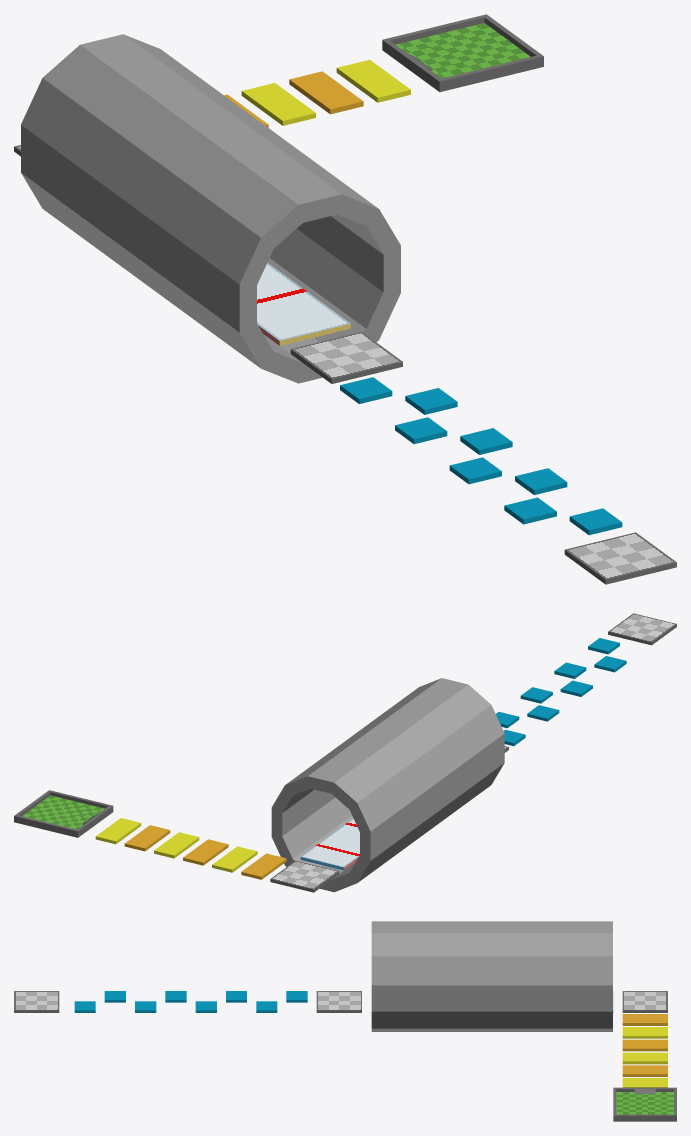
File: level-2.glb
3 views of the same model, one above another, from view 1: azimuth 30°, elevation 25°; view 2: azimuth 150°, elevation 25°; view 3: azimuth 270°, elevation 25° (orthographic). The views are drawn at different scales.
Visible parts, largest first — view 1: Object_81, Object_6, Object_55, Object_362, Object_360, Object_43, Object_45, Object_47, Object_8, Object_71, Object_57, Object_69 (+6 smaller); view 2: Object_81, Object_6, Object_55, Object_358, Object_362, Object_43, Object_45, Object_47, Object_49, Object_53, Object_51; view 3: Object_81, Object_6, Object_358, Object_360, Object_362, Object_47, Object_49, Object_45, Object_51, Object_53, Object_43.
Boxes of the visible parts, x1,y1,x2,y2 form: Object_81: [21, 34, 400, 383]; Object_6: [382, 23, 543, 91]; Object_55: [257, 263, 350, 345]; Object_362: [564, 532, 676, 584]; Object_360: [290, 332, 402, 383]; Object_43: [336, 59, 410, 102]; Object_45: [289, 71, 363, 114]; Object_47: [241, 83, 315, 125]; Object_8: [437, 54, 543, 86]; Object_71: [569, 508, 622, 535]; Object_57: [340, 377, 392, 403]; Object_69: [504, 497, 556, 524]; Object_81: [271, 678, 504, 892]; Object_6: [14, 795, 113, 837]; Object_55: [300, 818, 359, 870]; Object_358: [270, 860, 339, 892]; Object_362: [608, 613, 676, 645]; Object_43: [95, 818, 141, 844]; Object_45: [124, 825, 170, 851]; Object_47: [154, 832, 199, 858]; Object_49: [183, 839, 228, 865]; Object_53: [241, 853, 286, 879]; Object_51: [212, 846, 257, 872]; Object_81: [371, 921, 612, 1031]; Object_6: [613, 1092, 676, 1121]; Object_358: [622, 991, 667, 1012]; Object_360: [316, 991, 361, 1012]; Object_362: [14, 991, 59, 1012]; Object_47: [622, 1052, 667, 1064]; Object_49: [622, 1039, 667, 1051]; Object_45: [622, 1065, 667, 1076]; Object_51: [622, 1027, 667, 1038]; Object_53: [622, 1014, 667, 1025]; Object_43: [622, 1078, 667, 1087].
Size of the model in its own units: 6.13 by 2 by 12.17.
3 materials, 3 textured.
